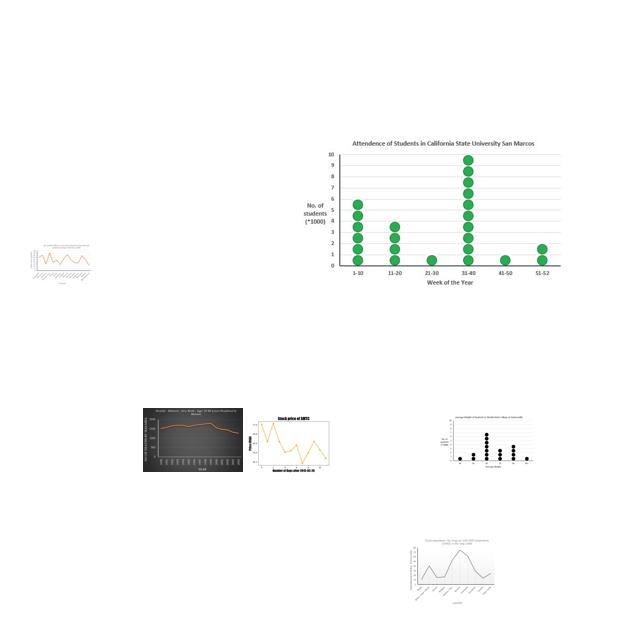Graph: (298, 136, 566, 291), (143, 408, 243, 472), (247, 409, 338, 477), (409, 538, 496, 605), (438, 414, 535, 470), (29, 243, 92, 285)
